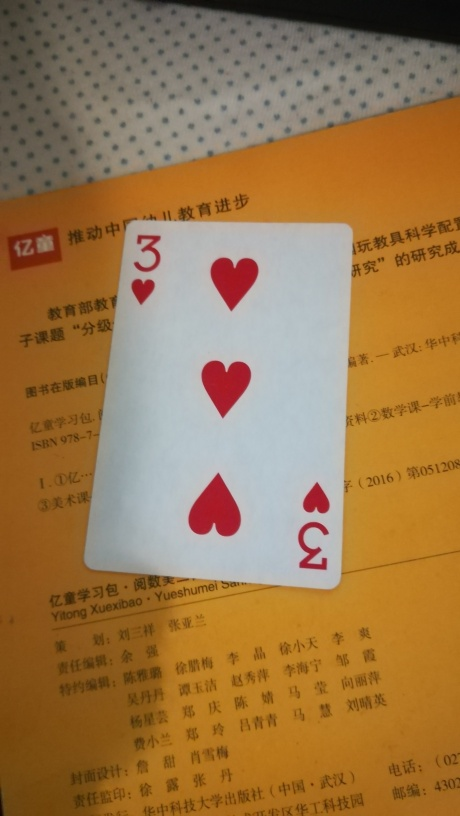hx 3: (83, 214, 354, 591)
